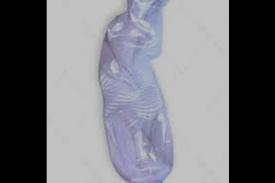Plastic: (94, 0, 191, 182)
